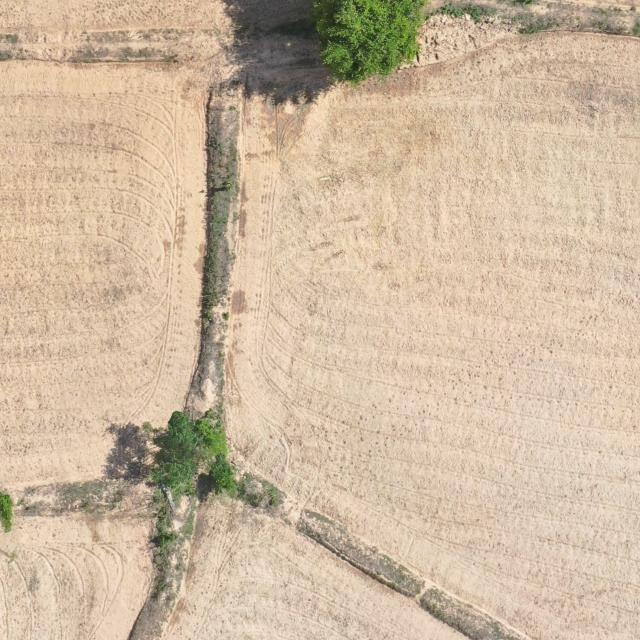Tree: (290, 0, 430, 91), (146, 408, 236, 498), (0, 490, 15, 535)
